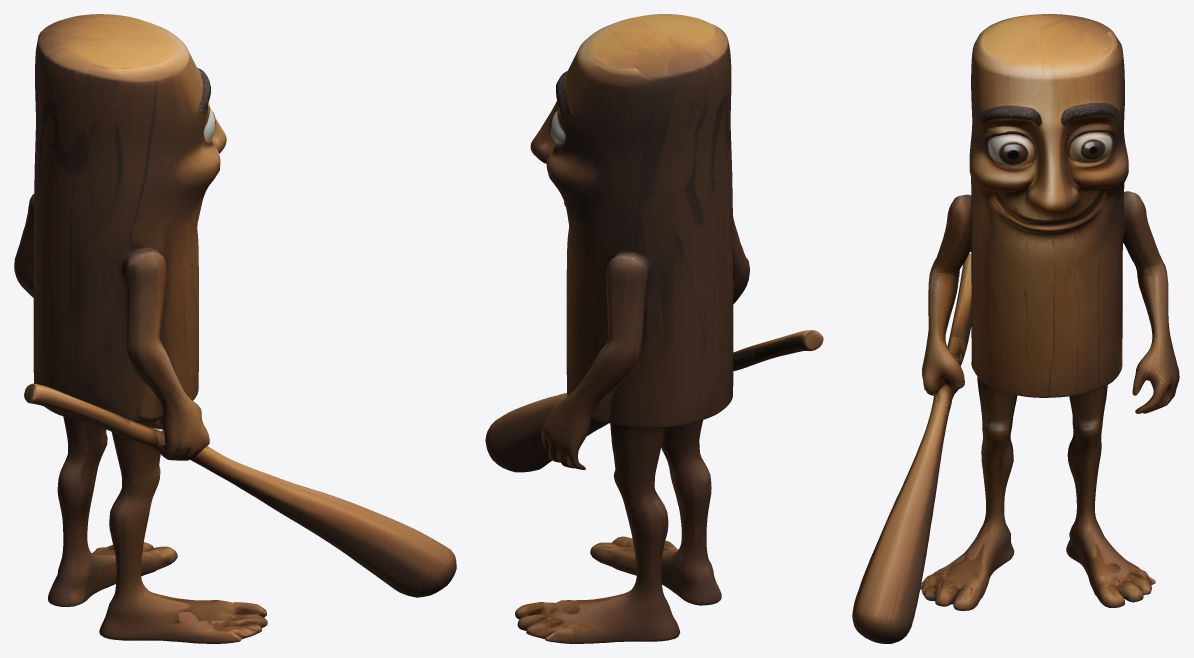
Rendered from TTT.glb.
3 renders of one model, left to right at view 1: azimuth 30°, elevation 25°; view 2: azimuth 150°, elevation 25°; view 3: azimuth 270°, elevation 25°, orthographic. The views are drawn at different scales.
Visible parts, largest first — view 1: model.001_Material_0; view 2: model.001_Material_0; view 3: model.001_Material_0.
Boxes of the visible parts, left/top/right/bottom form: model.001_Material_0: left=14, top=14, right=456, bottom=643; model.001_Material_0: left=485, top=14, right=823, bottom=643; model.001_Material_0: left=852, top=14, right=1179, bottom=643.
Size of the model in its own units: 1.31 by 1.9 by 1.06.
Materials: 1 (1 with a texture image).
